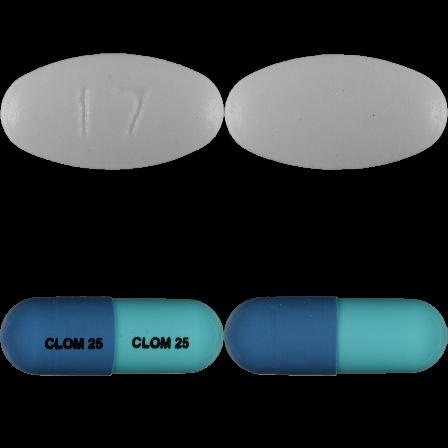68084-813: (0, 0, 224, 224)
